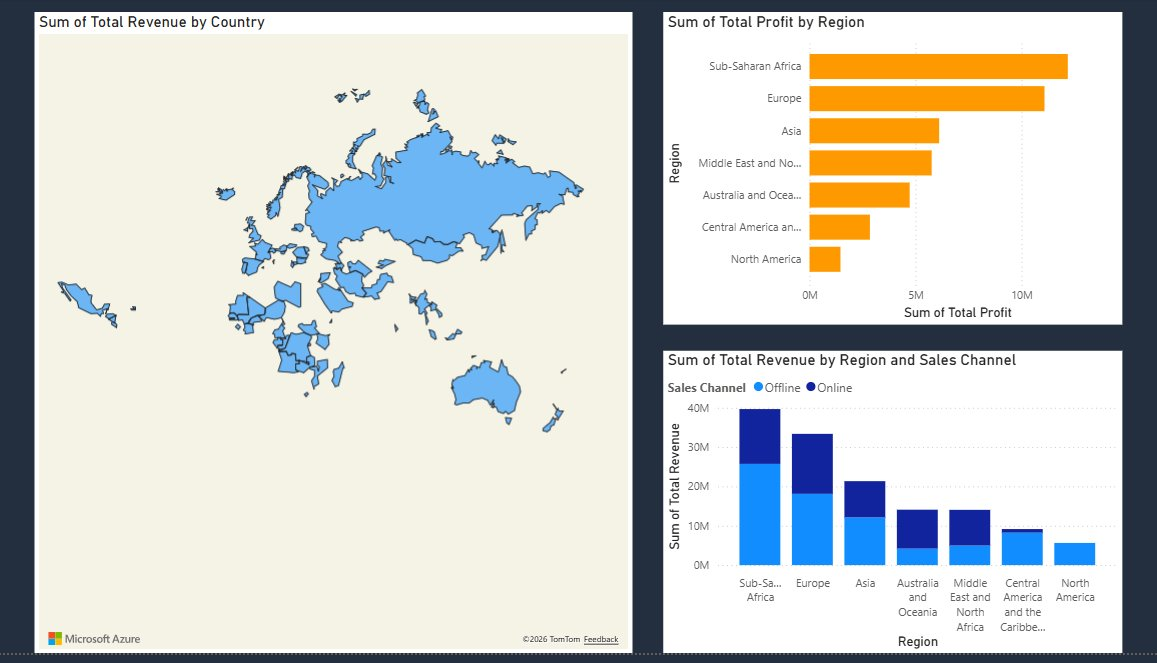

The dashboard page shown, as its layout file describes it:
{"tool":"powerbi","page":{"name":"Regional Analysis","canvas":[1280,720],"ordinal":3},"visuals":[{"type":"azureMap","fields":{"Category":["Amazon_Sales_Clean.Country"]},"box":[41.2,16.5,655.9,703.9],"z":0},{"type":"clusteredBarChart","fields":{"Category":["Amazon_Sales_Clean.Region"],"Y":["Sum(Amazon_Sales_Clean.Total Profit)"]},"box":[731.4,16.5,503.6,343.1],"z":1000},{"type":"columnChart","fields":{"Y":["Sum(Amazon_Sales_Clean.Total Revenue)"],"Category":["Amazon_Sales_Clean.Region"],"Series":["Amazon_Sales_Clean.Sales Channel"]},"box":[731.4,388.3,503.6,332.1],"z":2000}]}

Visuals, with their boxes in screenshot pixels (x1, y1, x2, y2), scaled from the page's 1280x720 canvas onto the 1157x663 screenshot:
azureMap - Amazon_Sales_Clean.Country: <bbox>37, 15, 630, 662</bbox>
clusteredBarChart - Amazon_Sales_Clean.Region x Sum(Amazon_Sales_Clean.Total Profit): <bbox>661, 15, 1116, 331</bbox>
columnChart - Sum(Amazon_Sales_Clean.Total Revenue) x Amazon_Sales_Clean.Region: <bbox>661, 358, 1116, 662</bbox>
